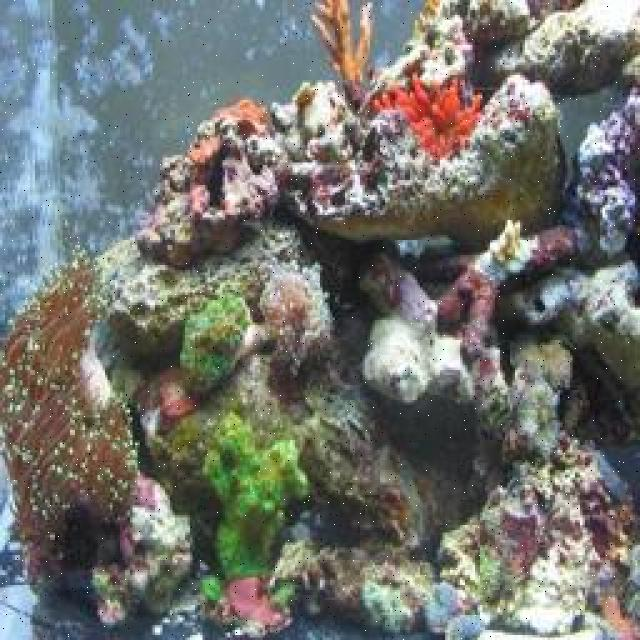reefs: (357, 88, 638, 638), (0, 245, 140, 560), (136, 99, 285, 258), (202, 419, 314, 578), (371, 76, 489, 157), (180, 283, 254, 392)
